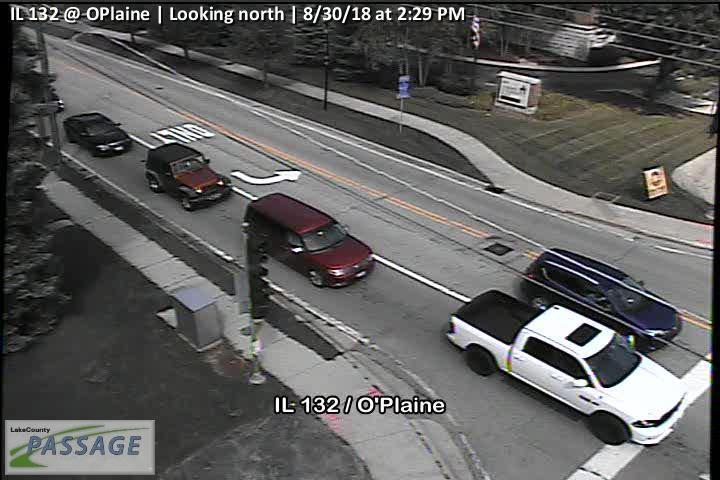SUV: (520, 248, 681, 352), (244, 193, 376, 290), (146, 143, 232, 211)
Sedan: (63, 113, 133, 158)
Truck: (444, 290, 688, 446)
